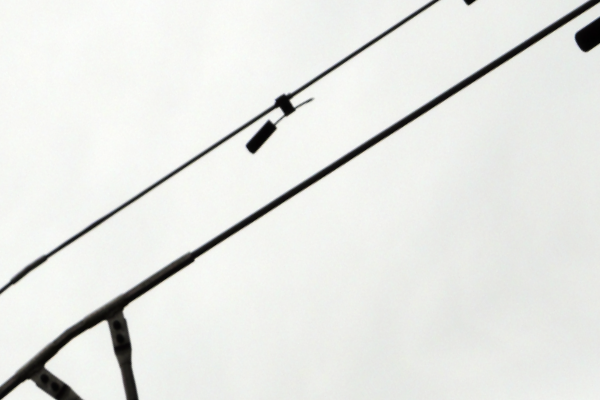damper_defect: (242, 90, 316, 156)
